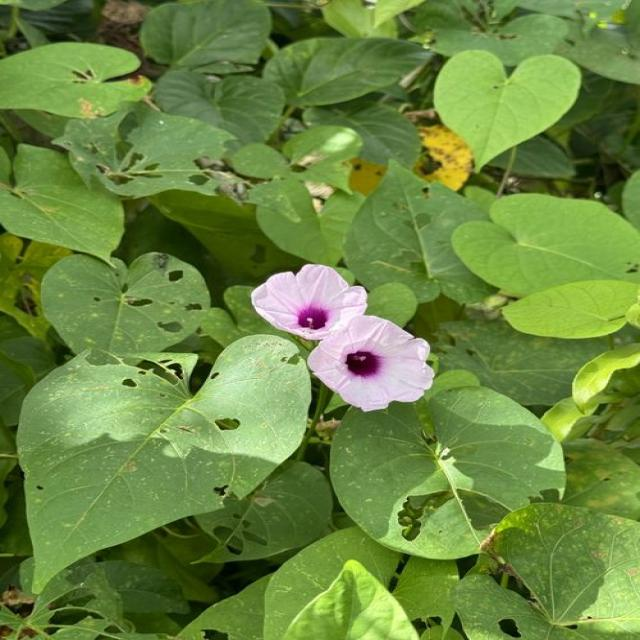ipomoea: (246, 261, 438, 415), (303, 314, 438, 414), (246, 261, 371, 343)
